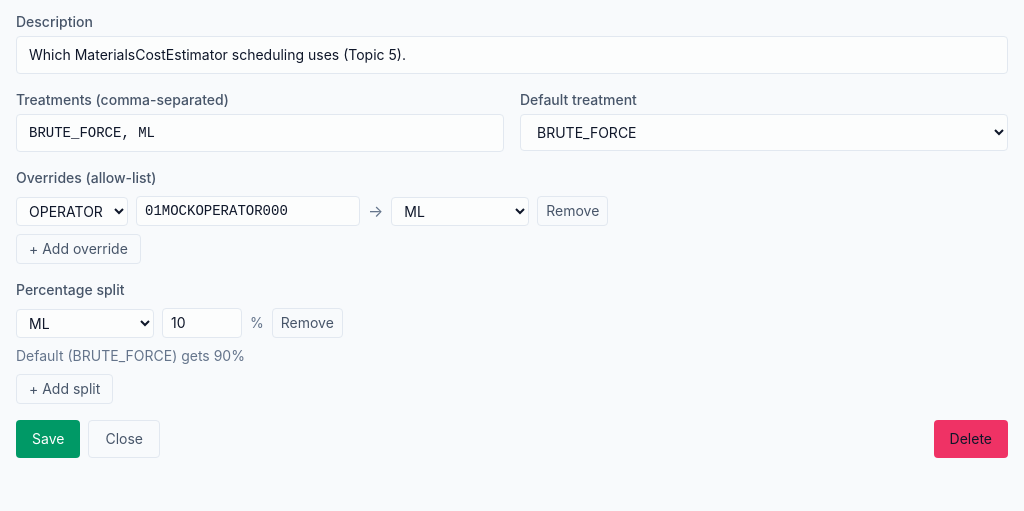
FeatureFlagEditor — existing flag › surfaces a save failure (e.g. a stale version)
Step 1. Click the button "Save" → coordinates (48, 439), box x1=16 y1=420 x2=80 y2=458
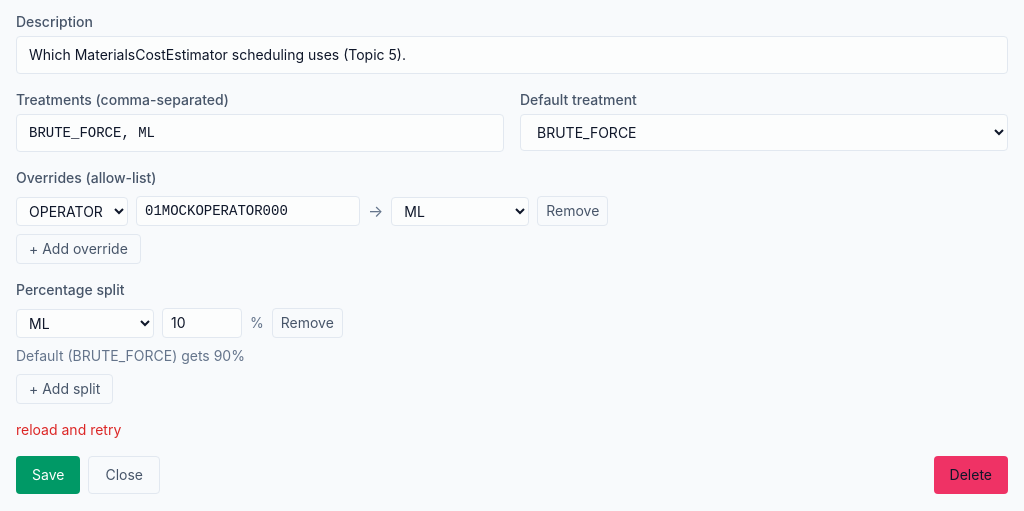
Expected: the message reads "reload and retry", x1=16 y1=421 x2=121 y2=438
